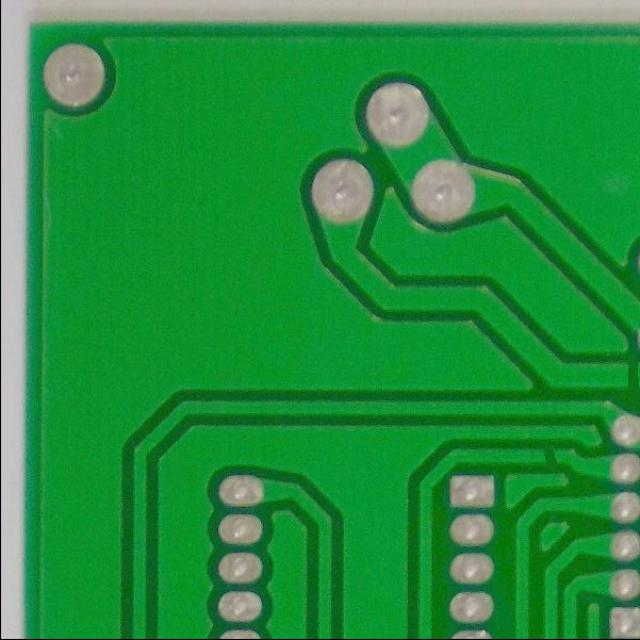open_circuit: (615, 357, 638, 397), (532, 443, 564, 470)
